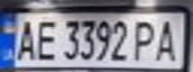2: (109, 17, 133, 62)
3: (60, 16, 81, 62), (78, 16, 96, 62)
9: (93, 17, 115, 62)
A: (151, 16, 184, 63), (12, 16, 39, 62)
E: (33, 16, 60, 62)
P: (130, 17, 160, 62)
